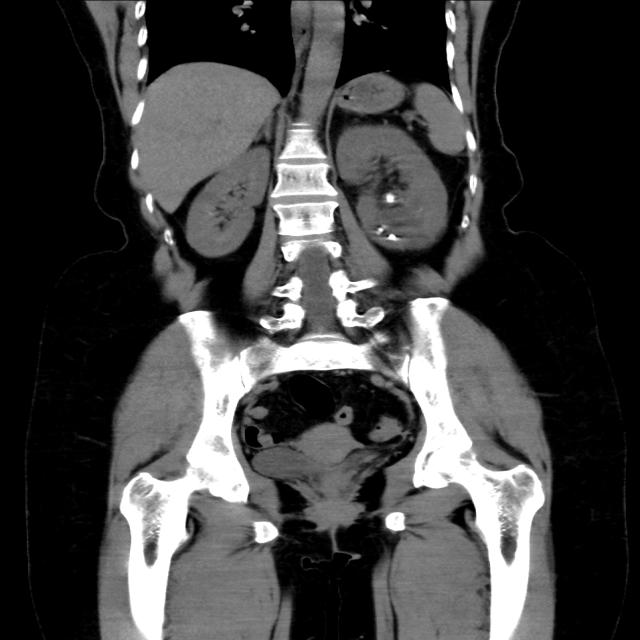kidneystone: (384, 192, 398, 205)
